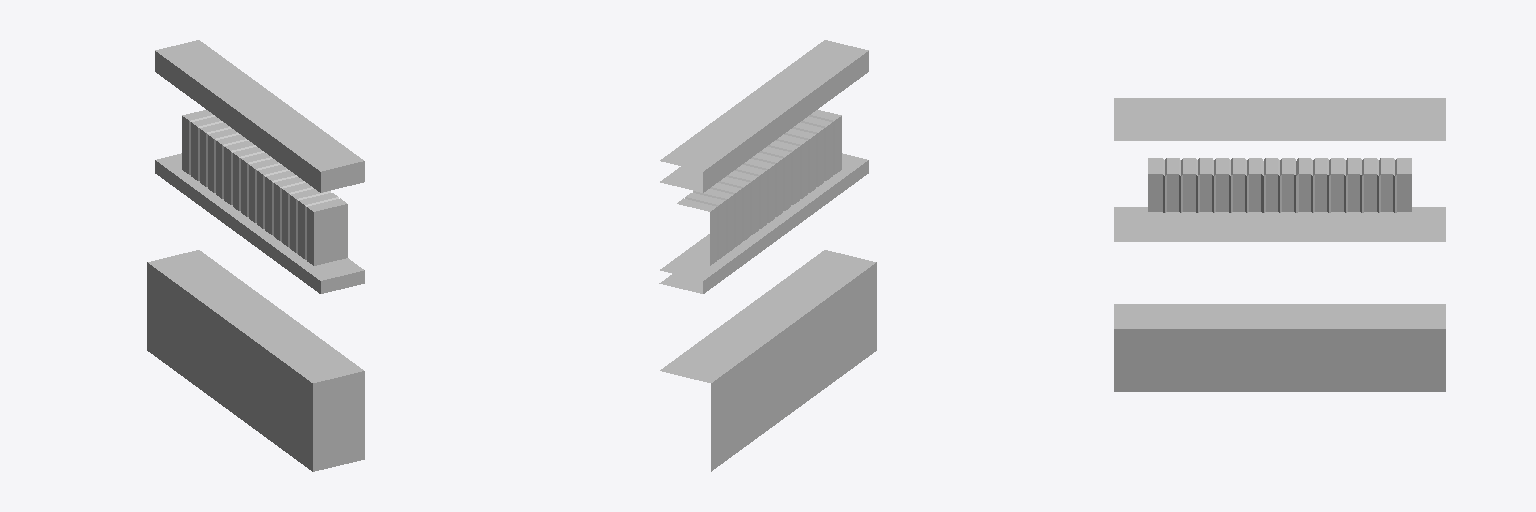
The model's file is HQ_bedside shelf.obj.
3 renders of one model, left to right at view 1: azimuth 30°, elevation 25°; view 2: azimuth 150°, elevation 25°; view 3: azimuth 270°, elevation 25°, orthographic.
Visible parts, largest first — view 1: HQ_bedside_shelf; view 2: HQ_bedside_shelf; view 3: HQ_bedside_shelf.
Part boxes in pixels (x1,y1,x2,y2): HQ_bedside_shelf: (147,40,364,471); HQ_bedside_shelf: (659,40,876,471); HQ_bedside_shelf: (1114,98,1445,391).
Size of the model in its own units: 1.36 by 7.5 by 7.54.